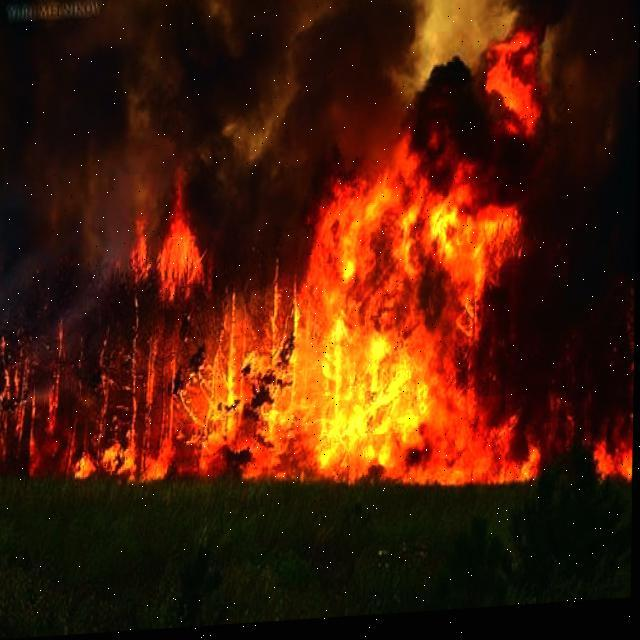Fire: (27, 21, 630, 512)
